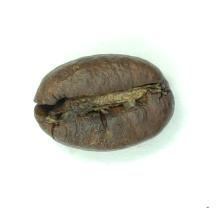NG: (47, 80, 164, 137)
